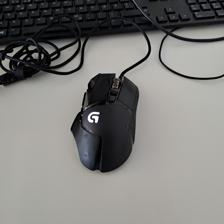mouse: (68, 72, 140, 175)
